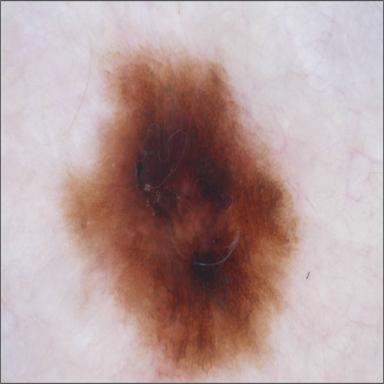nevus: (65, 49, 298, 379)
